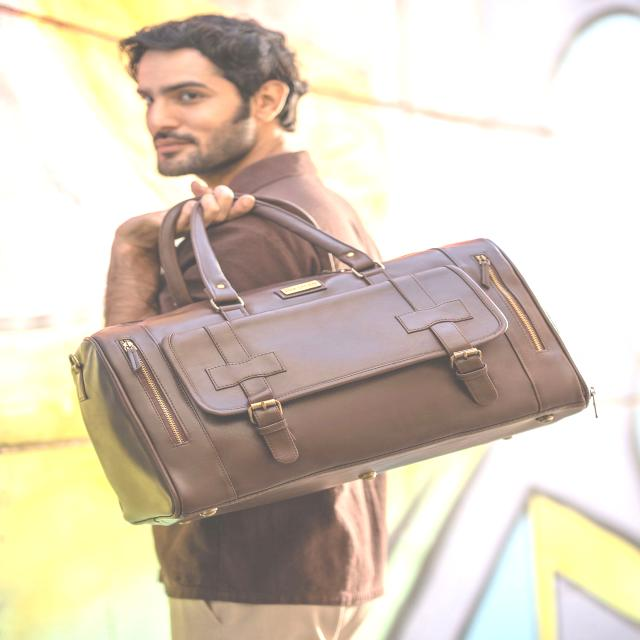backpack: (70, 194, 600, 528)
